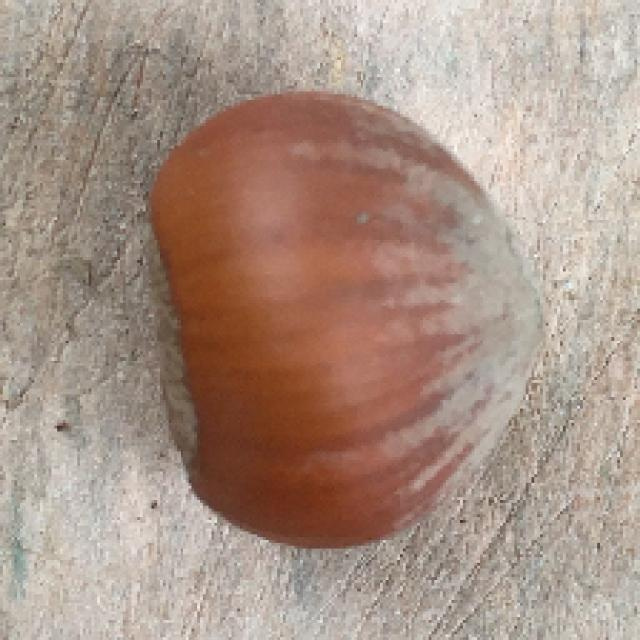qualityHazelnut: (130, 84, 546, 555)
